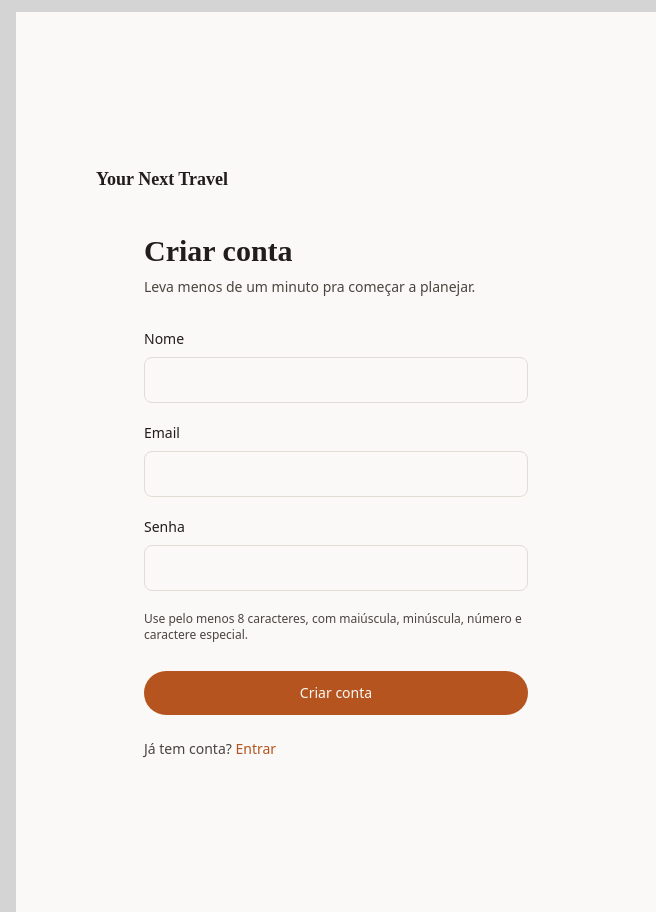
Scenario: auth flow › redirects from sign up to sign in with a confirmation, without logging in
Type "Ana Viajante" into the field labelled "Nome".
click(336, 380); type("Ana Viajante")  # box [144,357,528,403]
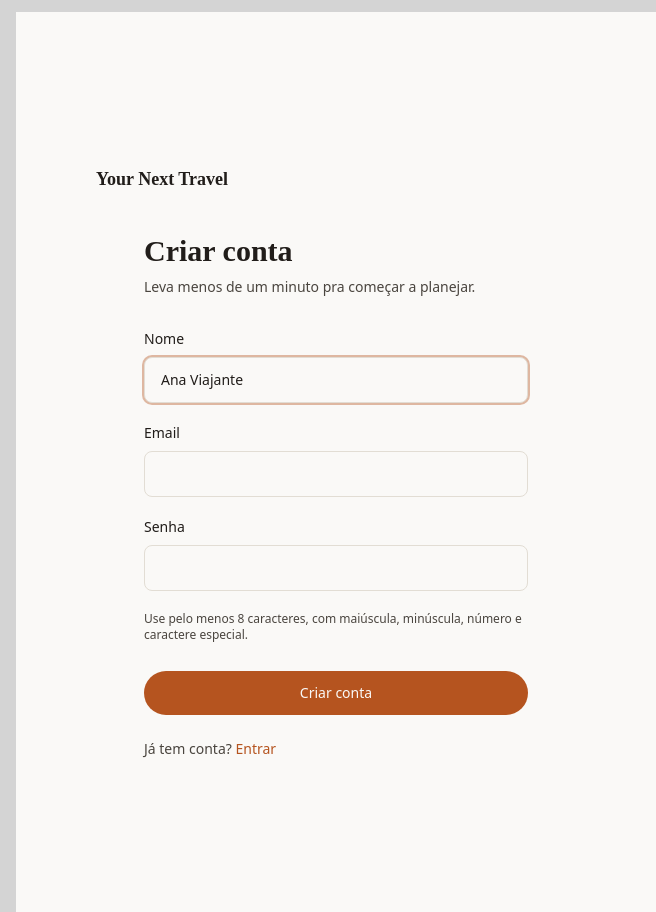
Type "ana@example.com" into the field labelled "Email".
click(336, 474); type("ana@example.com")  # box [144,451,528,497]
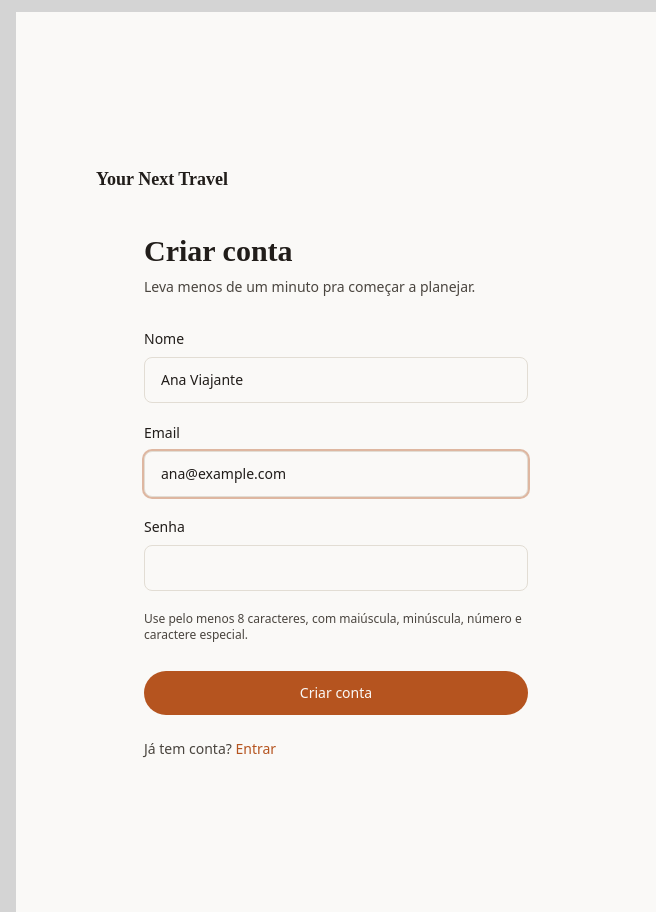
Type "Senha123!" into the password field labelled "Senha".
click(336, 568); type("Senha123!")  # box [144,545,528,591]
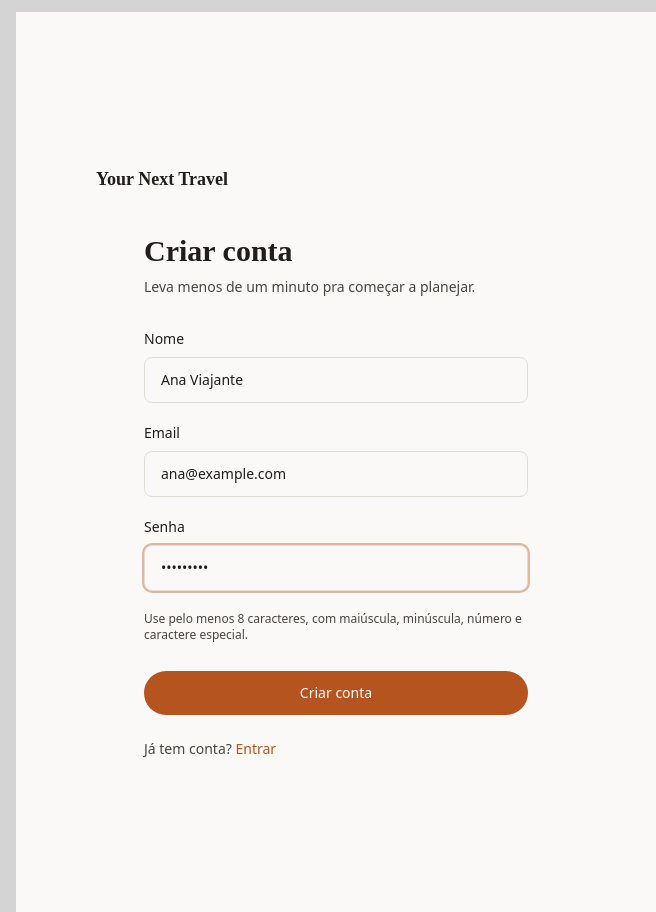
Click the button "Criar conta".
click(336, 693)  # box [144,671,528,715]
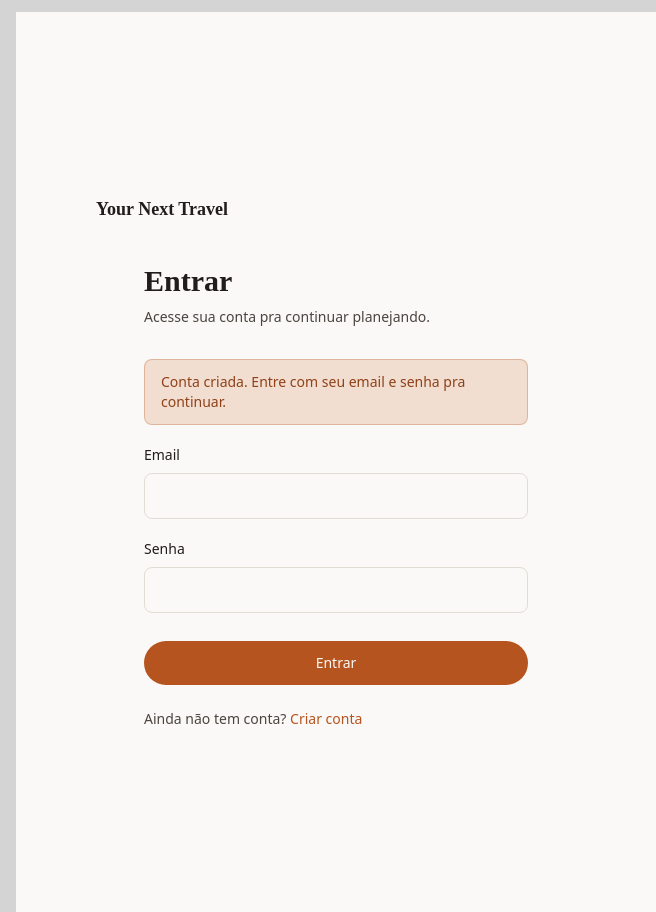
Expected: the heading "Entrar" is shown, [144,264,232,297]
Expected: the text "Conta criada. Entre com seu email e senha pra continuar." is shown, [144,359,528,425]
